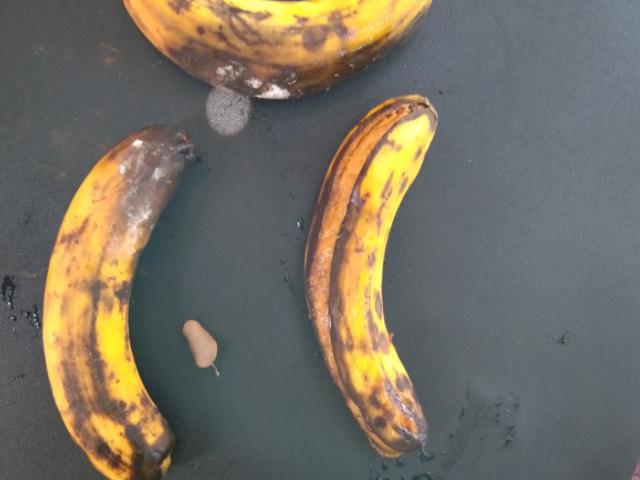rotten: (297, 101, 490, 456), (41, 124, 229, 479), (120, 0, 406, 94)
